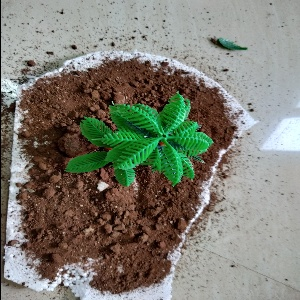plant: (72, 97, 214, 179)
